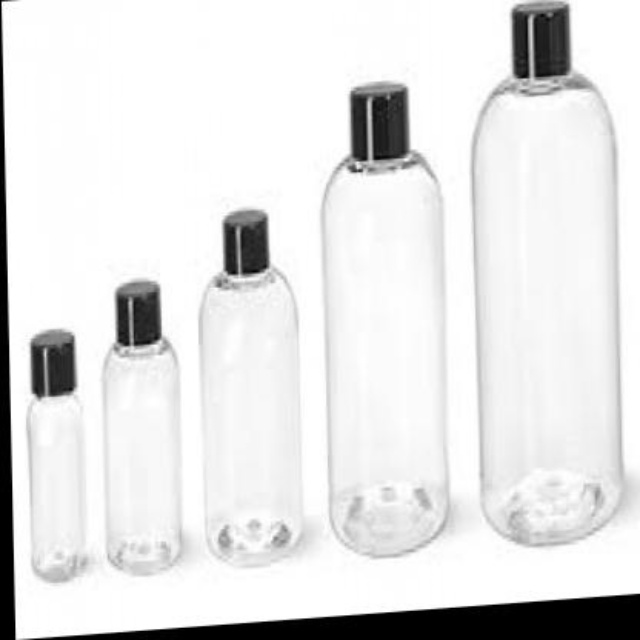trash: (472, 3, 622, 543), (323, 83, 446, 555), (200, 211, 300, 563), (103, 282, 180, 574), (28, 329, 83, 580)
